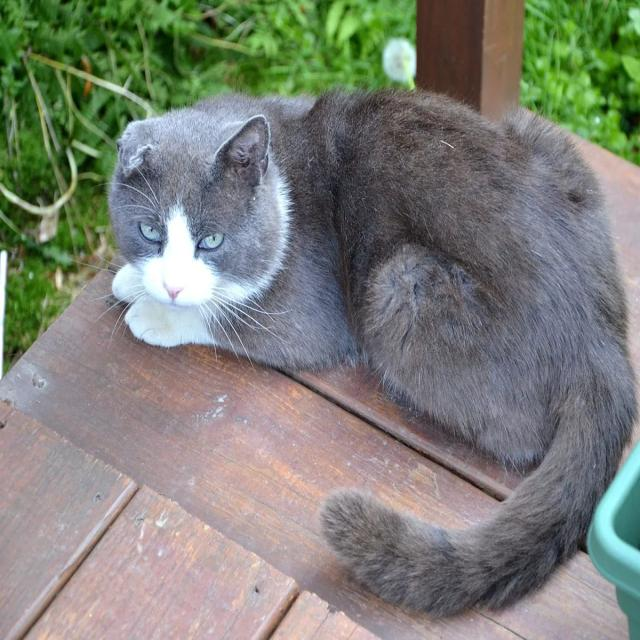cat: (109, 89, 638, 615)
